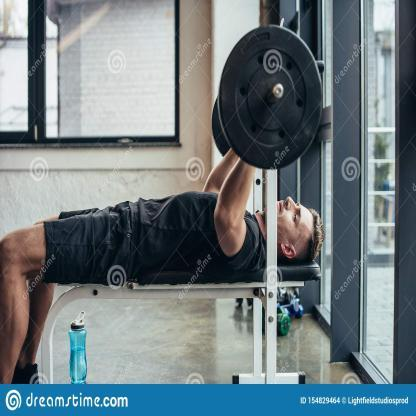Barbell: (272, 82, 286, 101)
